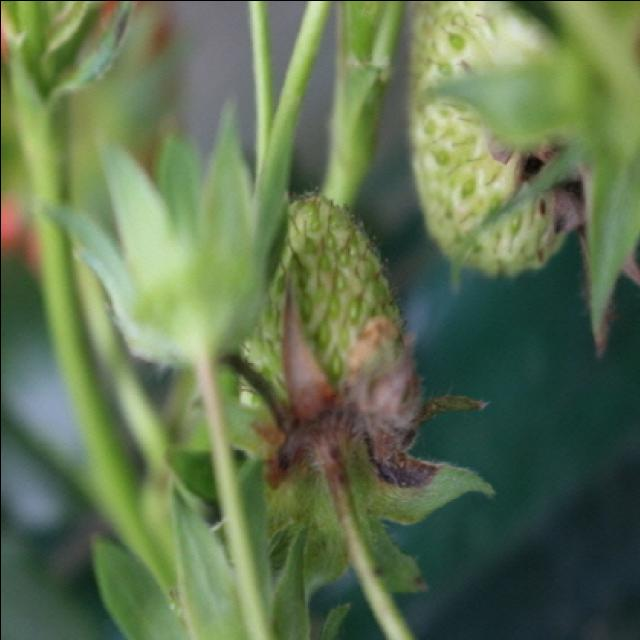Gray Mold: (217, 257, 488, 500), (487, 119, 640, 355)
